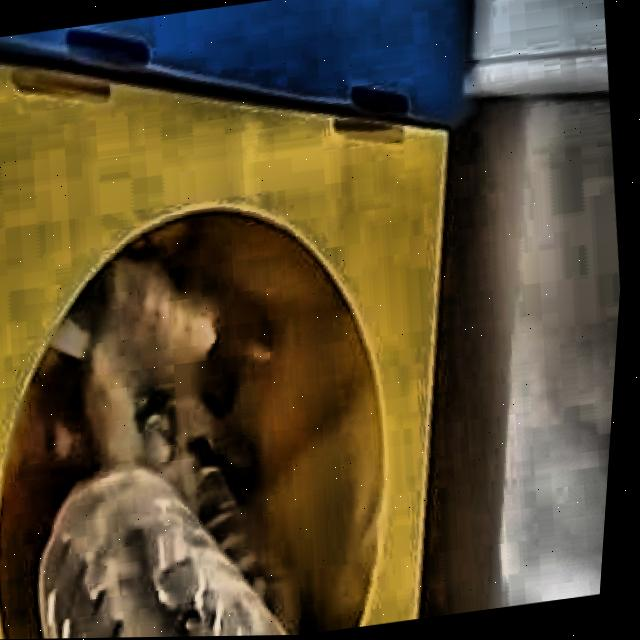plastic: (44, 464, 292, 639)
